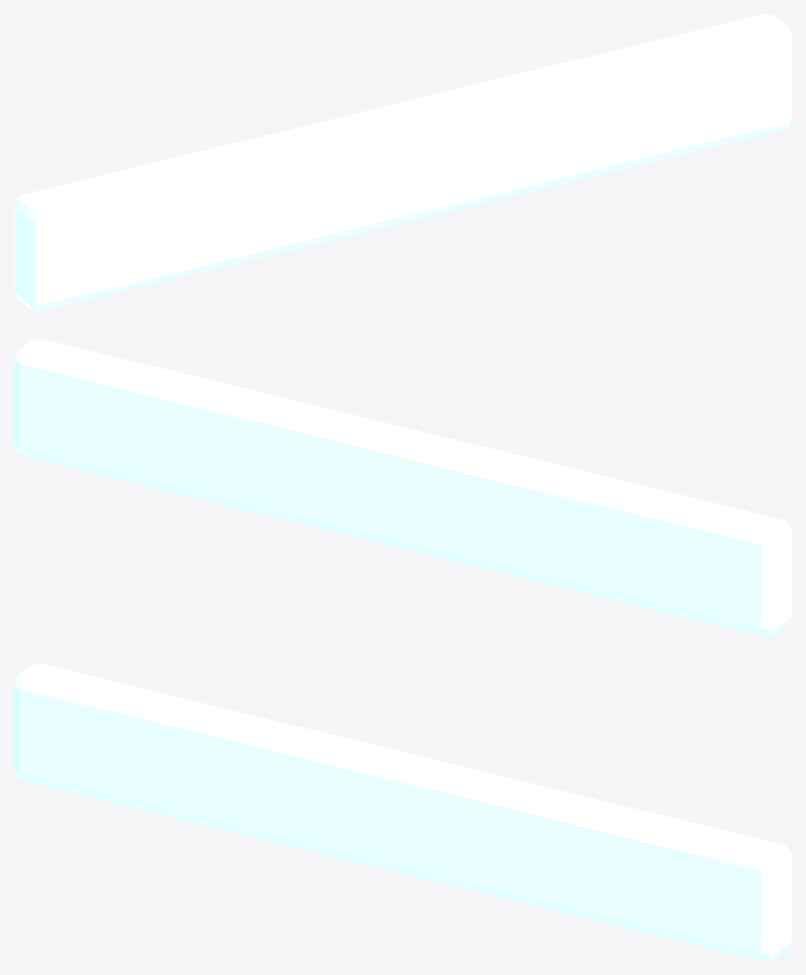
The model's file is CaptureIndicator.fbx.
The picture shows the model from 3 angles, top to bottom: view 1: azimuth 30°, elevation 25°; view 2: azimuth 150°, elevation 25°; view 3: azimuth 330°, elevation 25°; orthographic projection.
Parts seen in each view (by area): view 1: Capture Indicator.001; view 2: Capture Indicator.001; view 3: Capture Indicator.001.
Boxes of the visible parts, x1=… form: Capture Indicator.001: x1=14, y1=14, x2=791, y2=310; Capture Indicator.001: x1=14, y1=339, x2=791, y2=635; Capture Indicator.001: x1=14, y1=664, x2=791, y2=960.
Bounding box in the file's own units: 43.5 × 5.8 × 2.5.
